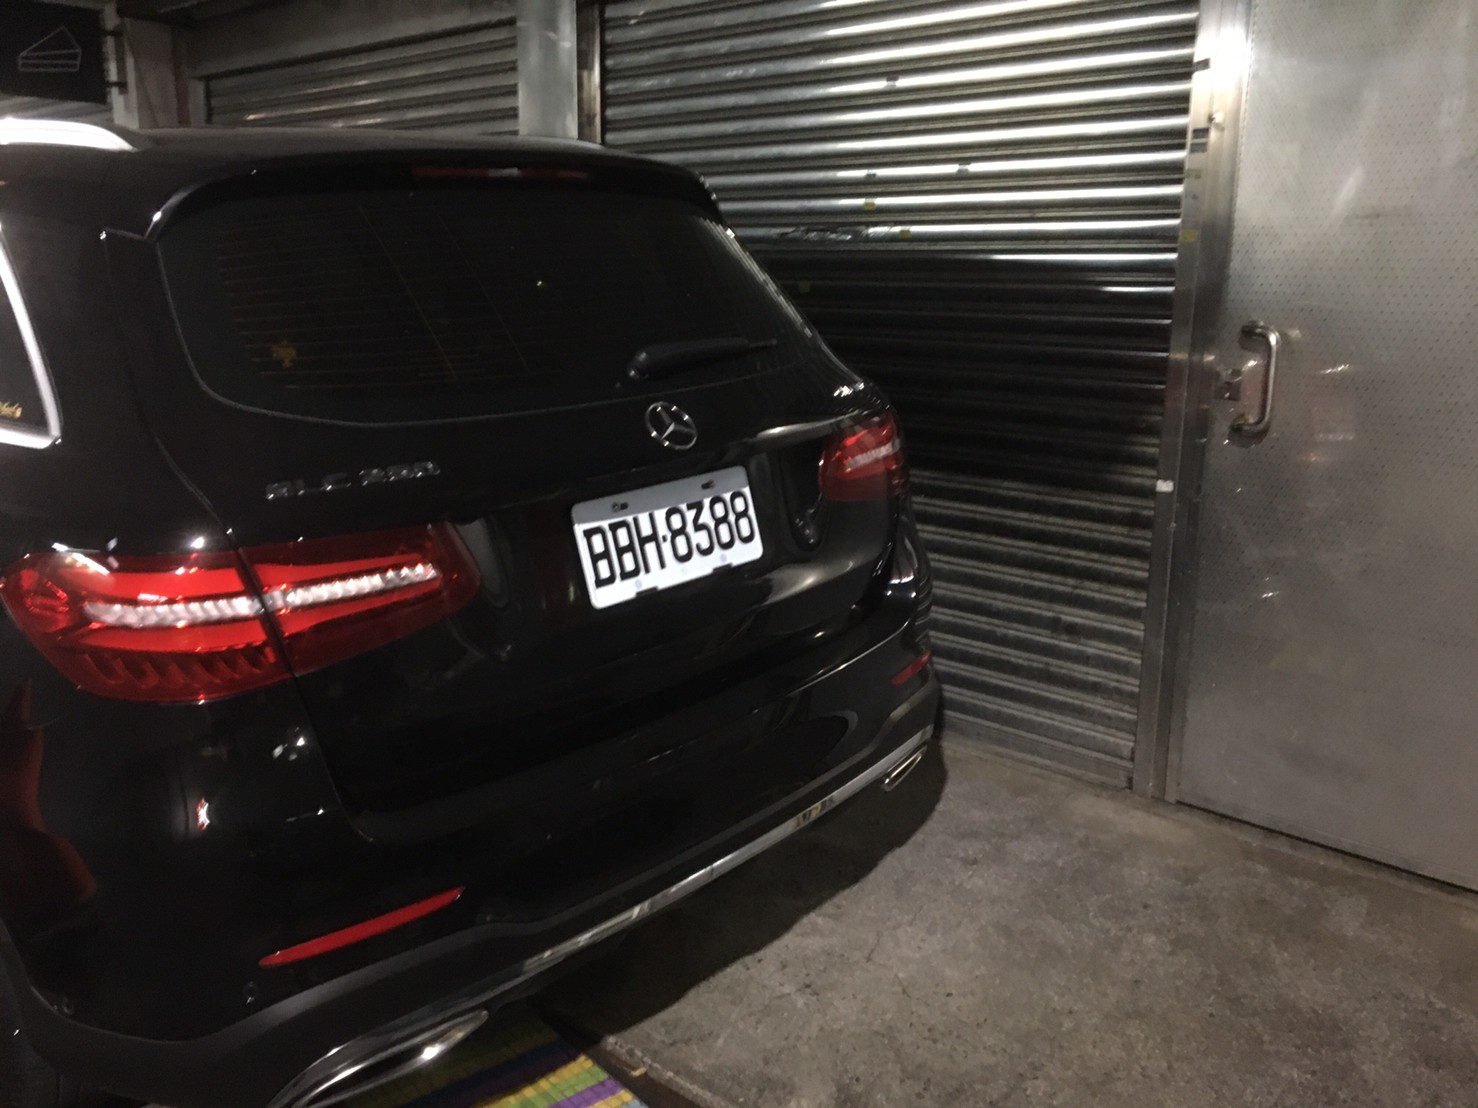LP: (582, 454, 760, 615)
